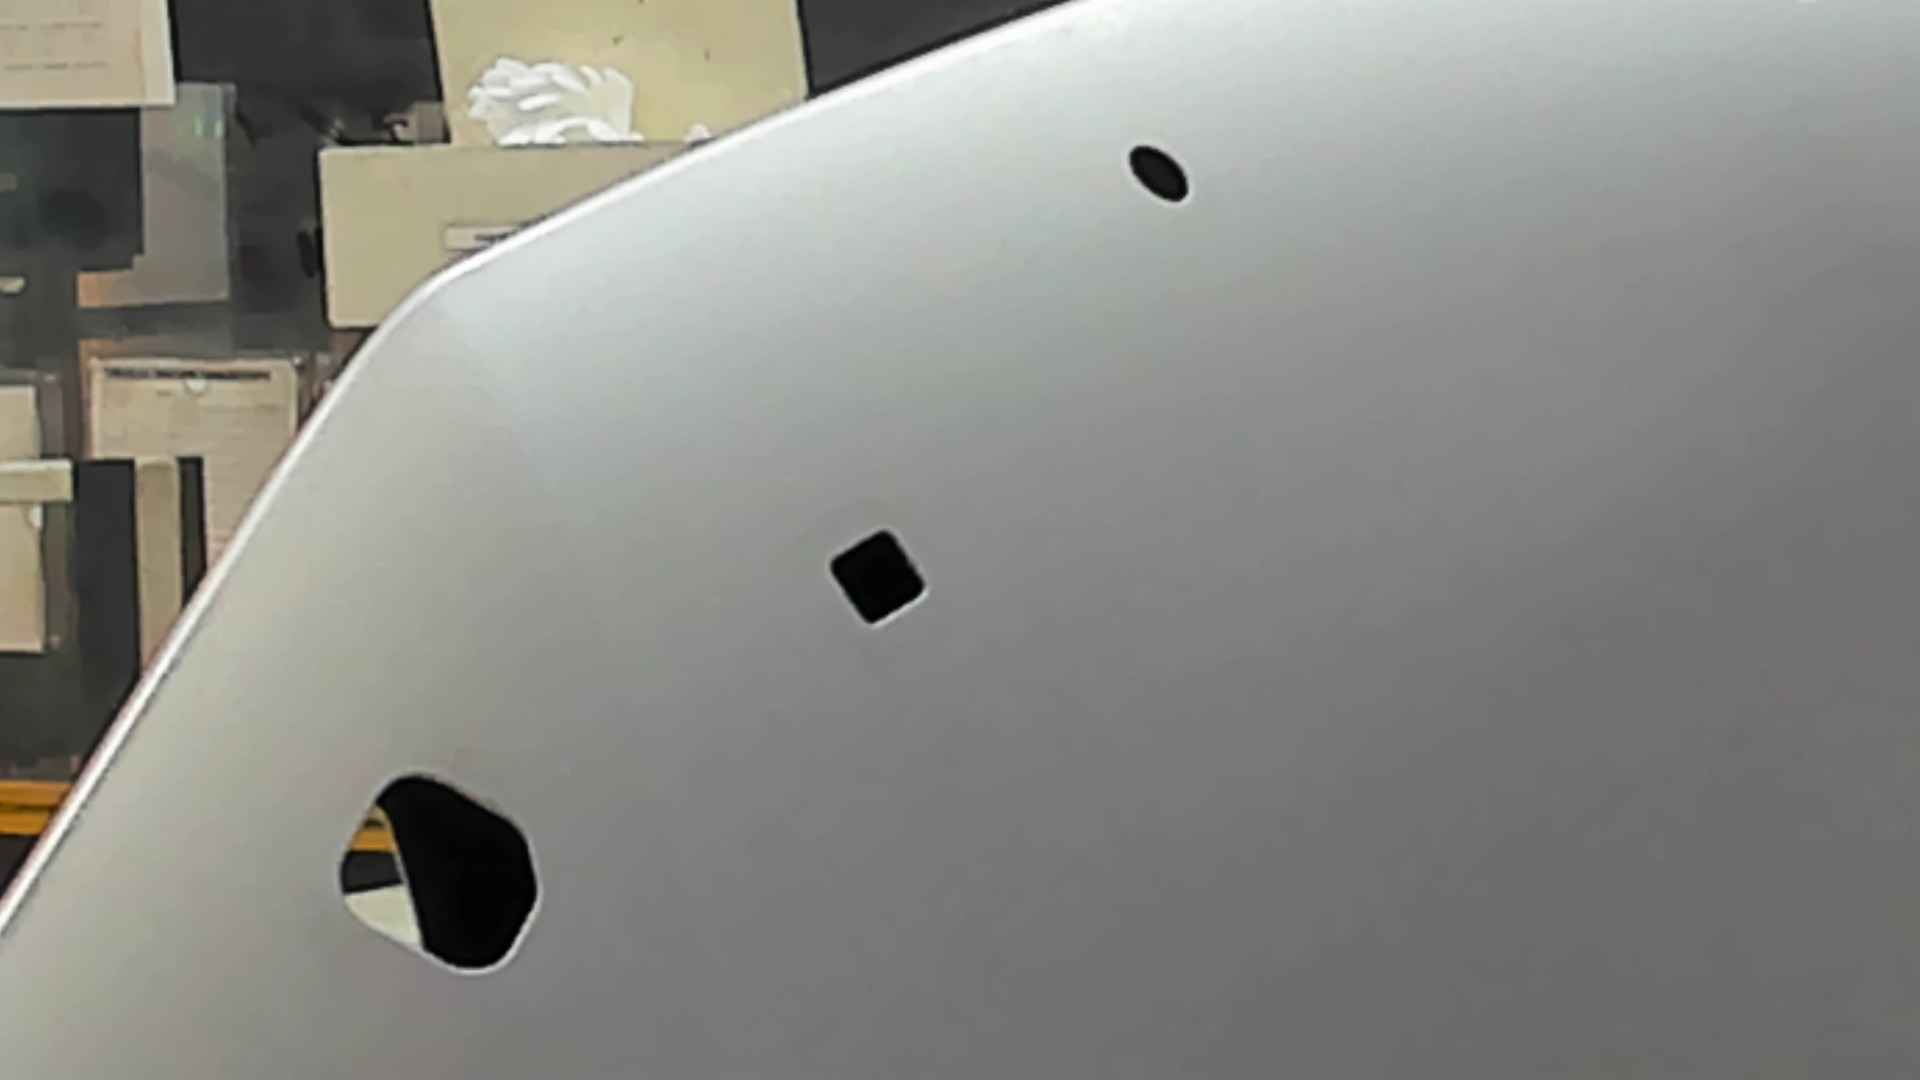Agujero: (828, 529, 928, 626), (1127, 144, 1188, 202)
Agujerote: (338, 771, 545, 976)
